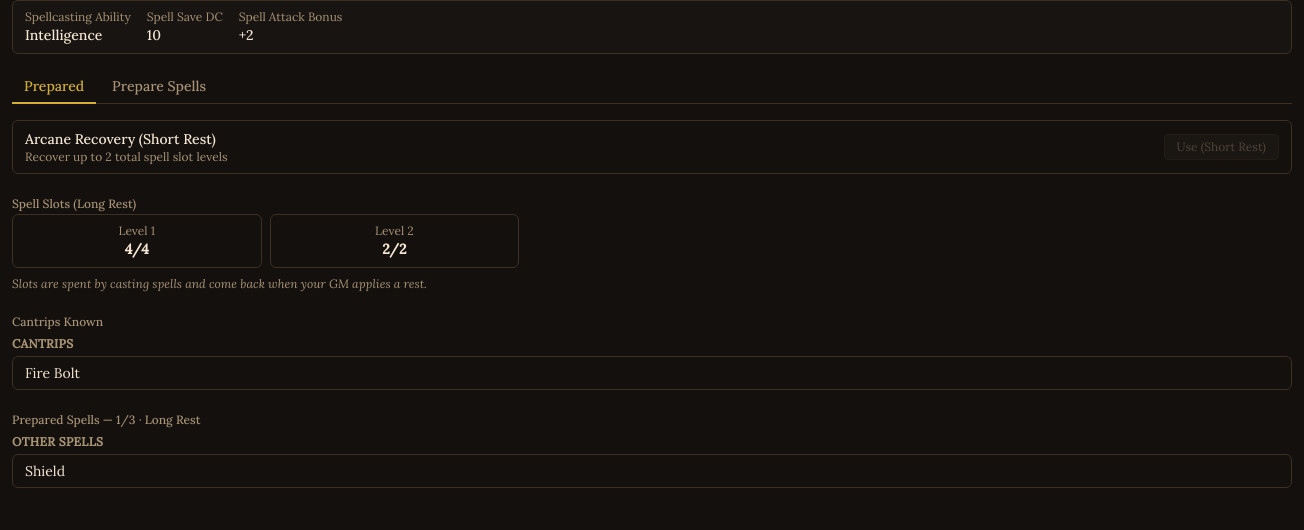
Test: WizardSheet sub-tab navigation › encyclopedia link appears in Prepare Spells tab
The image size is (1304, 530).
Click the button "Prepare Spells": x=159, y=87 [100,70,218,104]
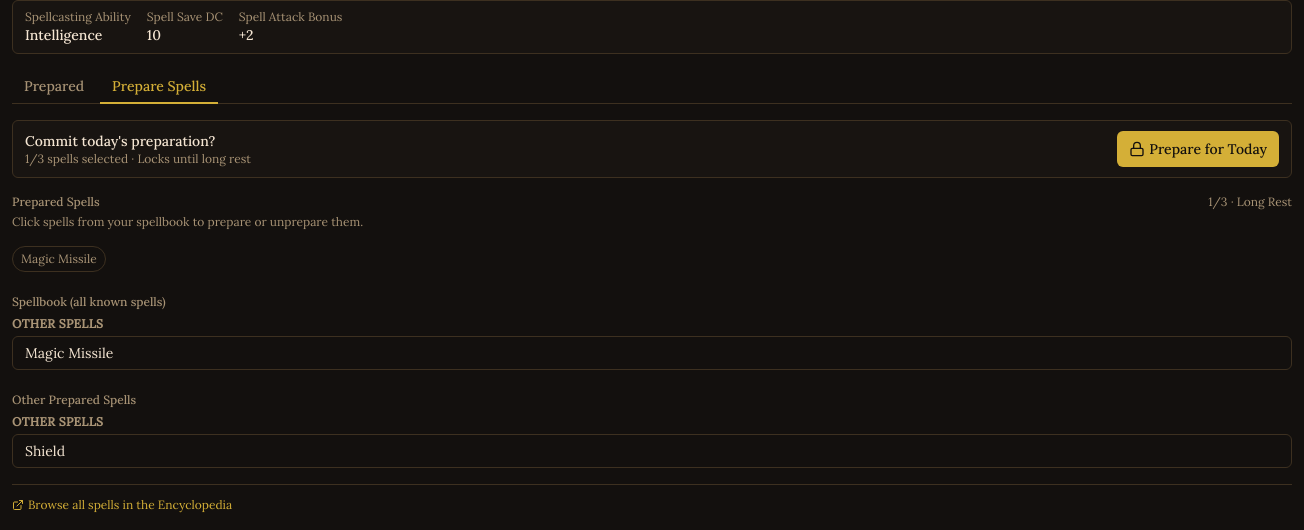
Check: the link "Browse all spells in the Encyclopedia" is shown, box [12,497,232,513]
